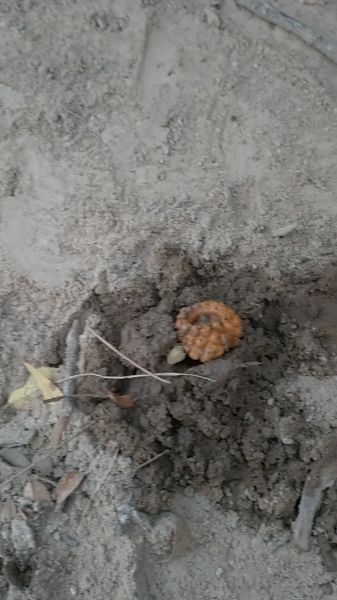eggs: (169, 295, 245, 372)
